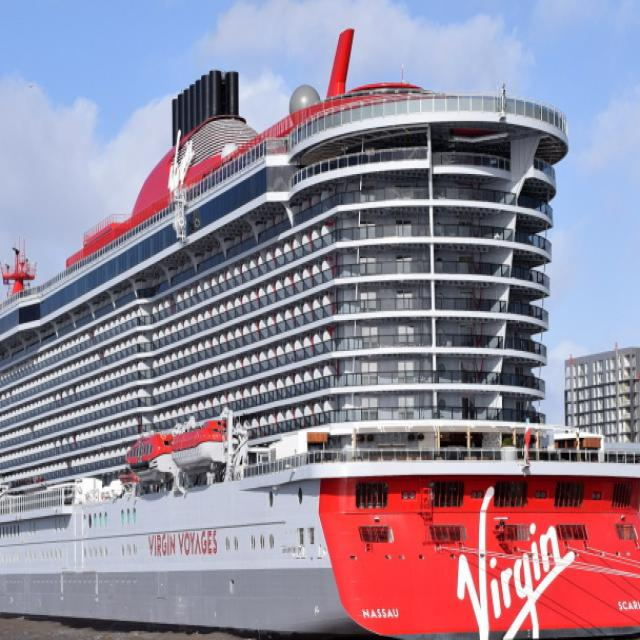cruises: (1, 14, 640, 640)
